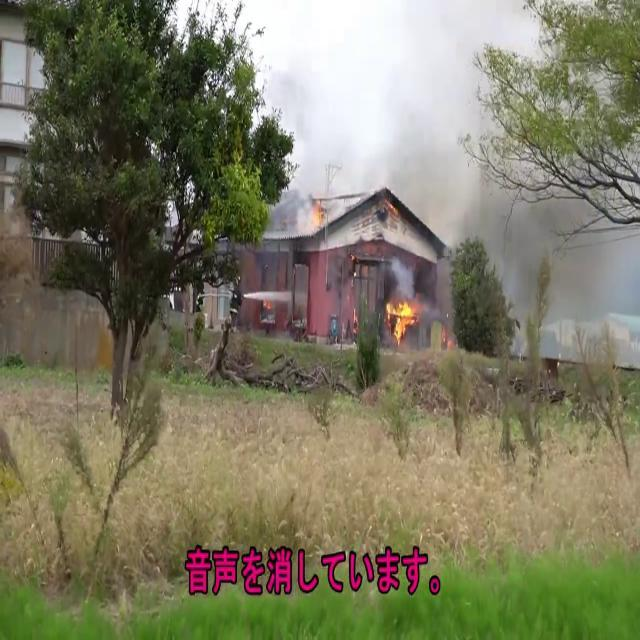Fire: (384, 292, 422, 344)
Smoke: (390, 3, 640, 334)
